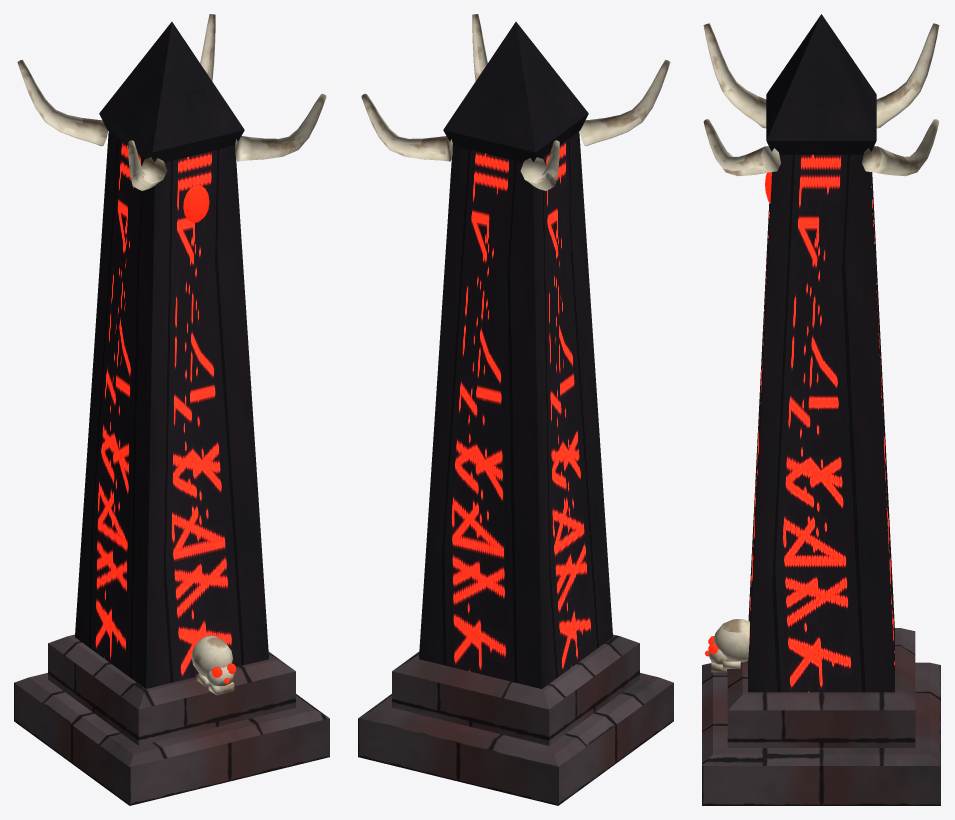
Rendered from demon_obelisk.glb.
3 renders of one model, left to right at view 1: azimuth 30°, elevation 25°; view 2: azimuth 150°, elevation 25°; view 3: azimuth 270°, elevation 25°, orthographic. The views are drawn at different scales.
Parts seen in each view (by area): view 1: ObeliskShaft, ObeliskPlinth, ObeliskCap, ObeliskHorns, ObeliskEye; view 2: ObeliskShaft, ObeliskPlinth, ObeliskCap, ObeliskHorns; view 3: ObeliskShaft, ObeliskPlinth, ObeliskCap, ObeliskHorns.
Part boxes in pixels (x1=…): ObeliskShaft: x1=75, y1=131, x2=268, y2=688; ObeliskPlinth: x1=14, y1=634, x2=329, y2=805; ObeliskCap: x1=99, y1=22, x2=244, y2=162; ObeliskHorns: x1=17, y1=14, x2=326, y2=695; ObeliskEye: x1=183, y1=185, x2=236, y2=683; ObeliskShaft: x1=419, y1=131, x2=612, y2=688; ObeliskPlinth: x1=358, y1=634, x2=673, y2=805; ObeliskCap: x1=443, y1=22, x2=588, y2=162; ObeliskHorns: x1=361, y1=14, x2=670, y2=190; ObeliskShaft: x1=748, y1=154, x2=894, y2=692; ObeliskPlinth: x1=702, y1=628, x2=940, y2=805; ObeliskCap: x1=766, y1=14, x2=876, y2=154; ObeliskHorns: x1=703, y1=23, x2=939, y2=672.
Size of what is drawn, in the model's own units: 1.84 by 6.3 by 1.84.
Materials: 5 (4 with a texture image).
